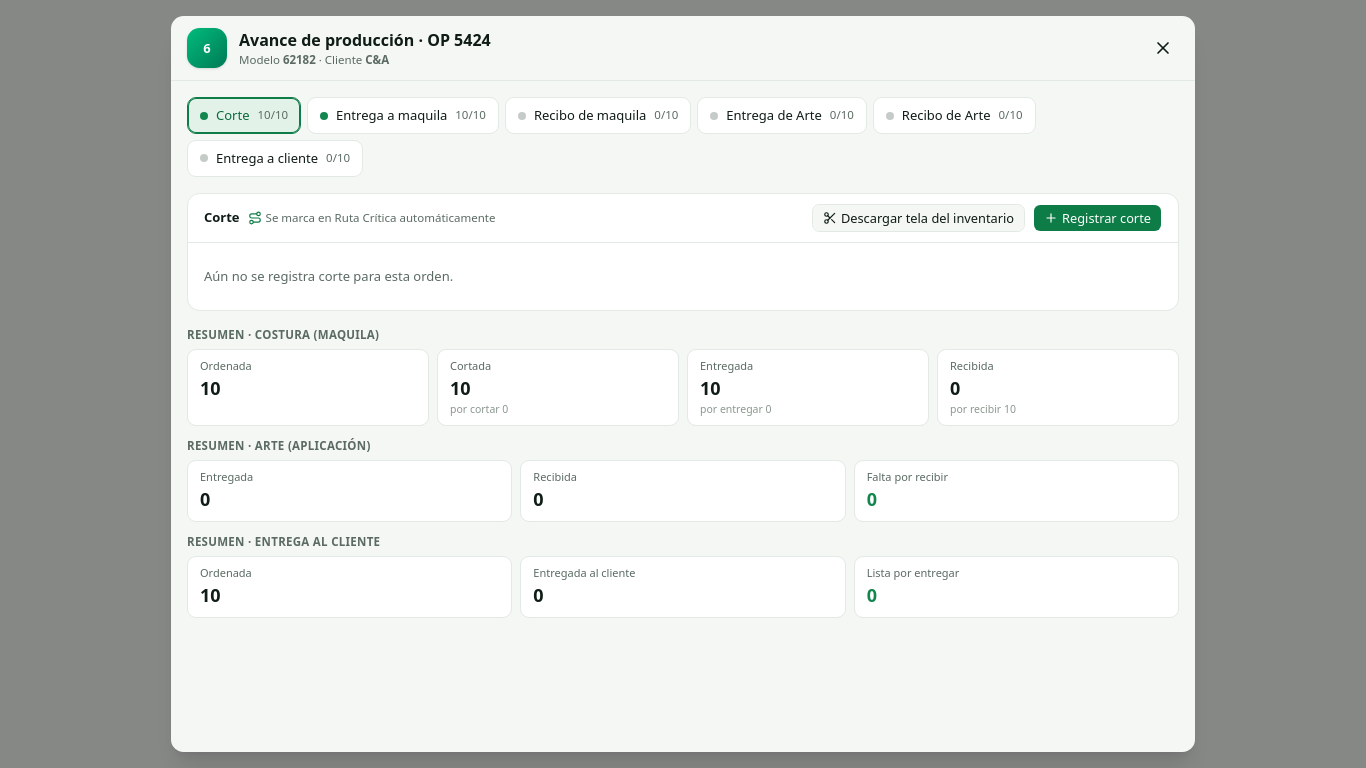
Scenario: Captura del avance · entrega a maquila › arranca con el maquilero YA PROGRAMADO en la OP
Click the tab with test id "avance-stepper-entrega-maquila": click(403, 116) [307,97,499,134]
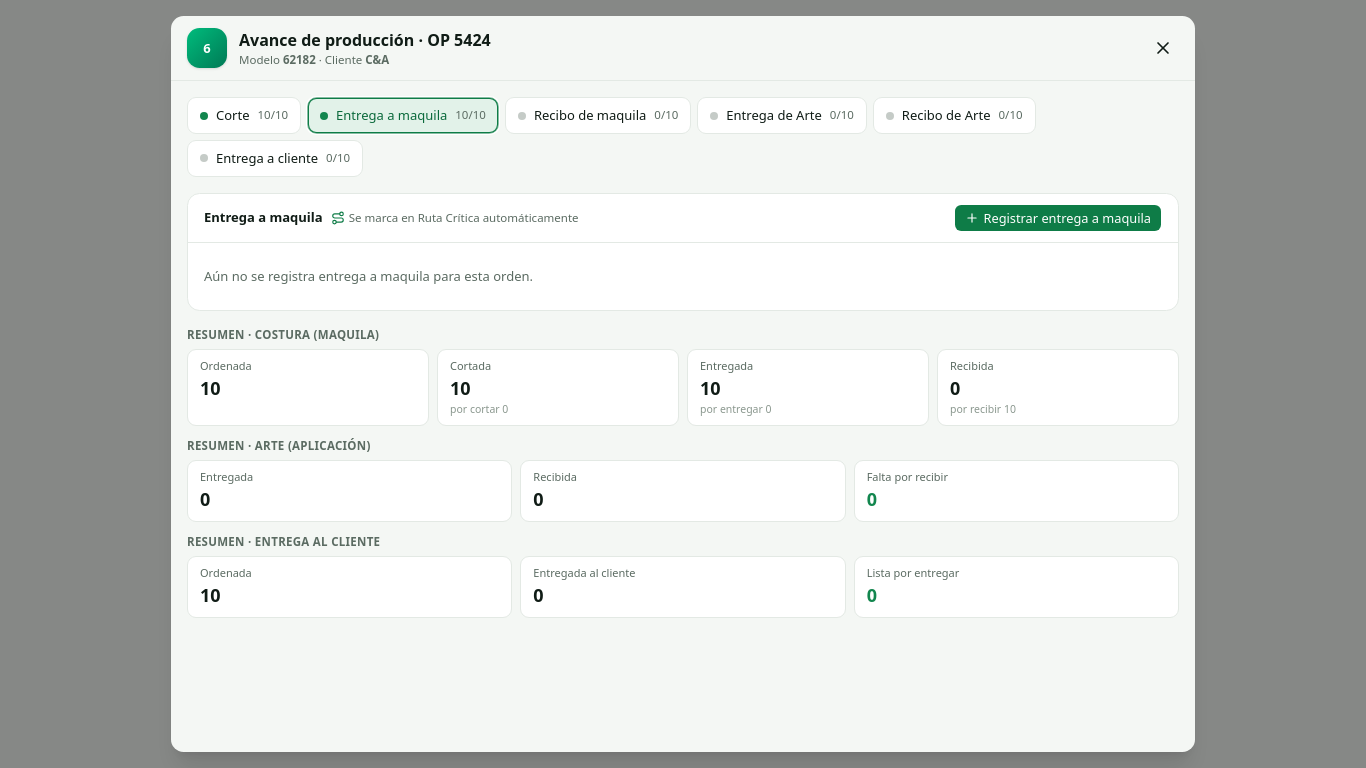
Click the button with test id "avance-abrir-captura": click(1058, 218) [954,204,1162,232]
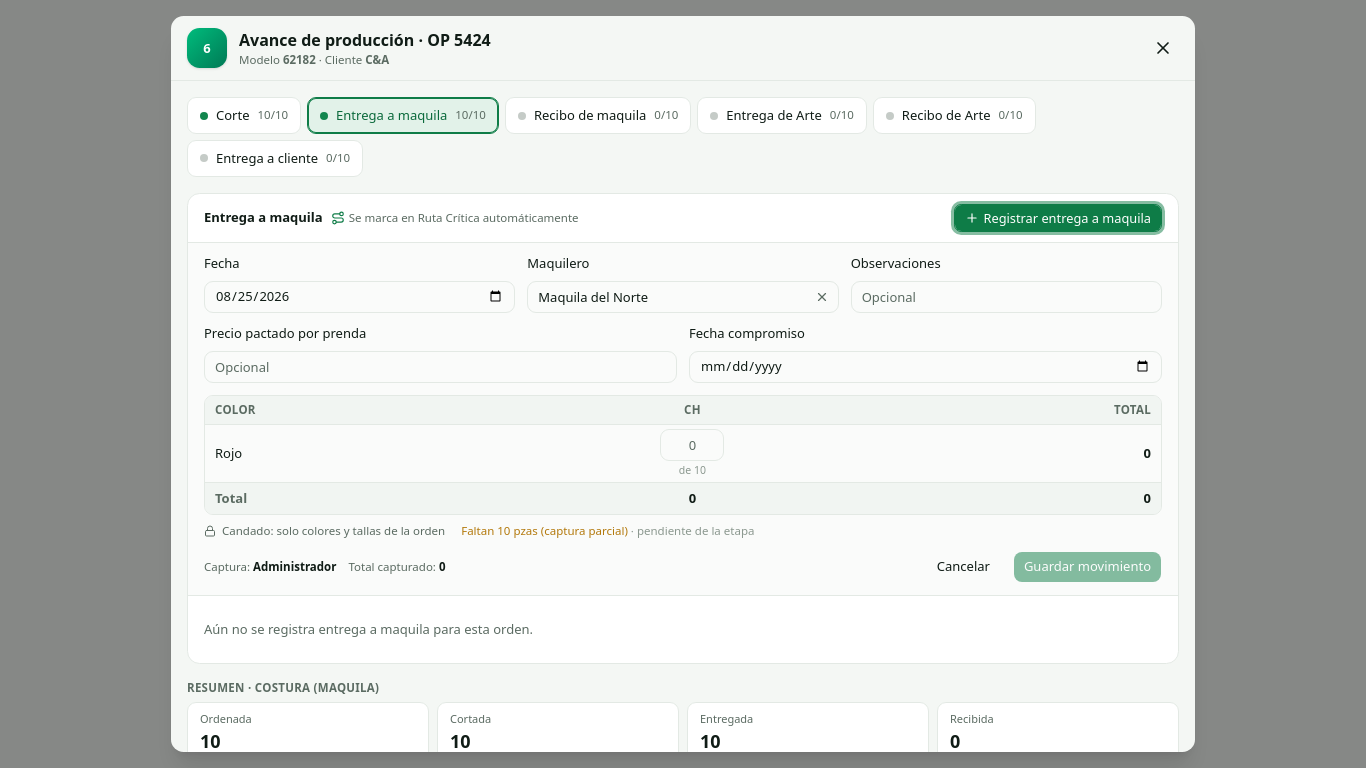
Expected: the dropdown with test id "avance-proveedor-input" holds "Maquila del Norte", [527,281,839,313]
